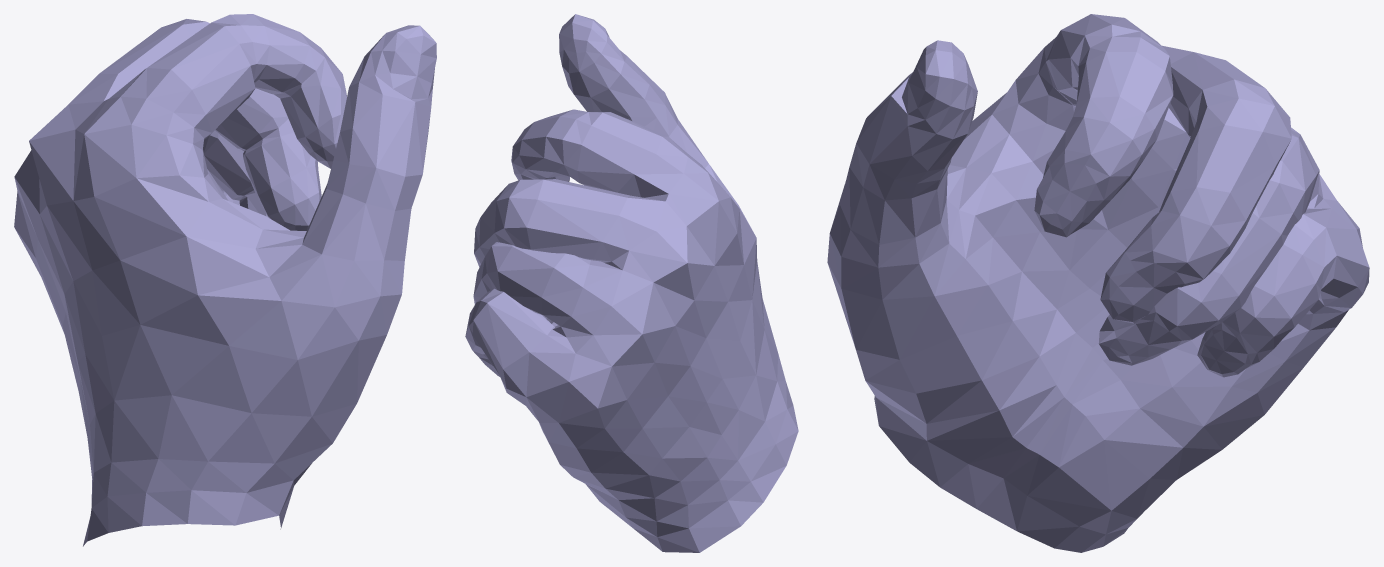
The model's file is frame_0005_source_000005_hand.glb.
3 views of the same model, side by side, from view 1: azimuth 30°, elevation 25°; view 2: azimuth 150°, elevation 25°; view 3: azimuth 270°, elevation 25° (orthographic). The views are drawn at different scales.
Parts seen in each view (by area): view 1: world; view 2: world; view 3: world.
Part boxes in pixels (box(x1,y1,x2,y2)): world: box(14, 14, 436, 546); world: box(465, 14, 798, 552); world: box(827, 14, 1369, 552).
Size of the model in its own units: 0.0694 by 0.12 by 0.1007.
